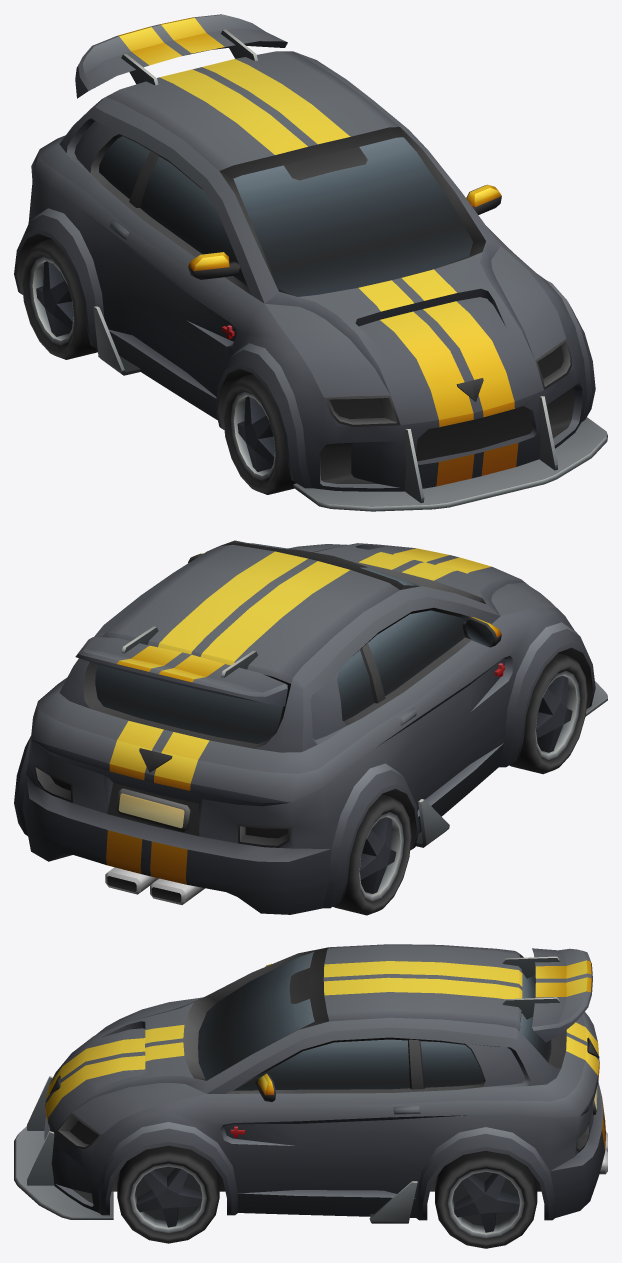
The model's file is Car_7E.fbx.
3 views of the same model, one above another, from view 1: azimuth 30°, elevation 25°; view 2: azimuth 150°, elevation 25°; view 3: azimuth 270°, elevation 25° (orthographic). The views are drawn at different scales.
Visible parts, largest first — view 1: Car_7E, Wheel_7E_R.R, Wheel_7E_F.R; view 2: Car_7E, Wheel_7E_F.R, Wheel_7E_R.R; view 3: Car_7E, Wheel_7E_R.L, Wheel_7E_F.L.
Boxes of the visible parts, <box> form: Car_7E: <box>14,14,607,511</box>; Wheel_7E_R.R: <box>21,239,97,359</box>; Wheel_7E_F.R: <box>223,374,296,494</box>; Car_7E: <box>14,540,607,914</box>; Wheel_7E_F.R: <box>509,653,587,774</box>; Wheel_7E_R.R: <box>333,794,411,915</box>; Car_7E: <box>14,944,607,1223</box>; Wheel_7E_R.L: <box>435,1151,537,1248</box>; Wheel_7E_F.L: <box>117,1145,219,1243</box>.
Bounding box in the file's own units: 267 × 187 × 487.
